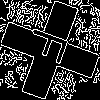F: (25, 25, 79, 69)
